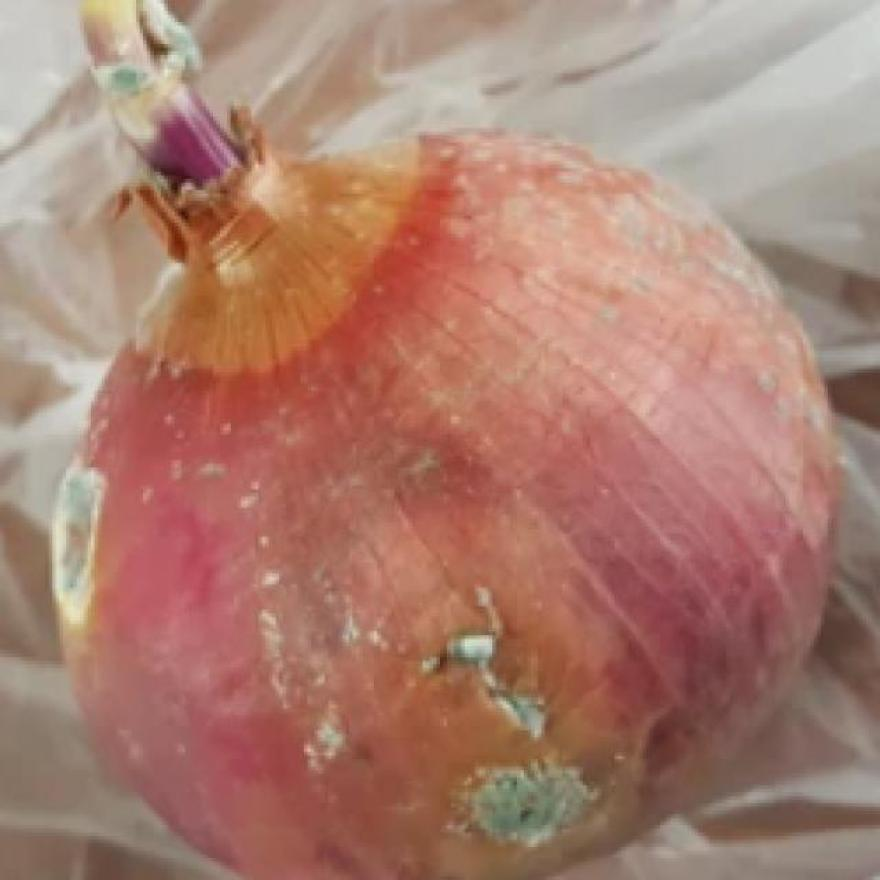Rotten: (289, 566, 625, 844), (35, 453, 112, 614)
Sprouted: (66, 44, 300, 249)
